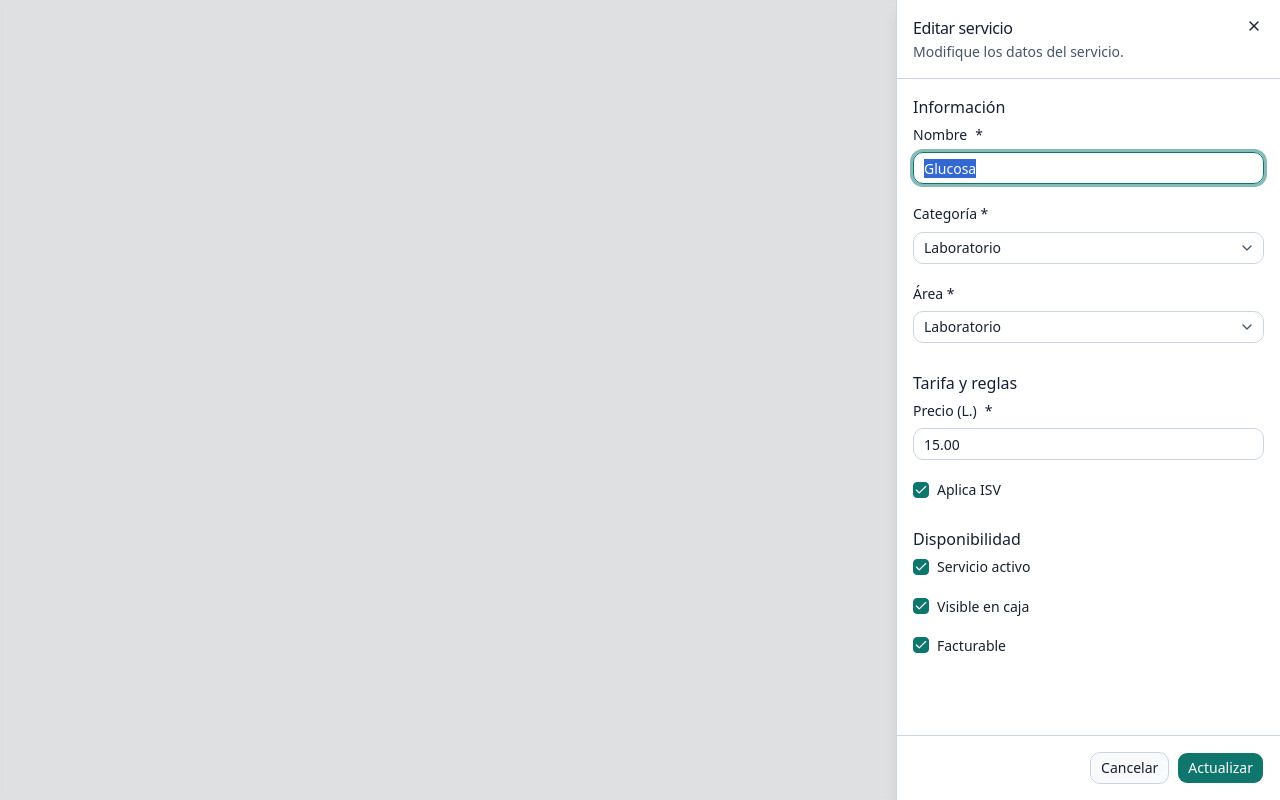
it: ServiceDrawer › blocks short price change reasons before saving
The image size is (1280, 800).
Replace the text in the field labelled "Precio (L.) *" with "20.00": (1088, 444) [913,428,1264,460]
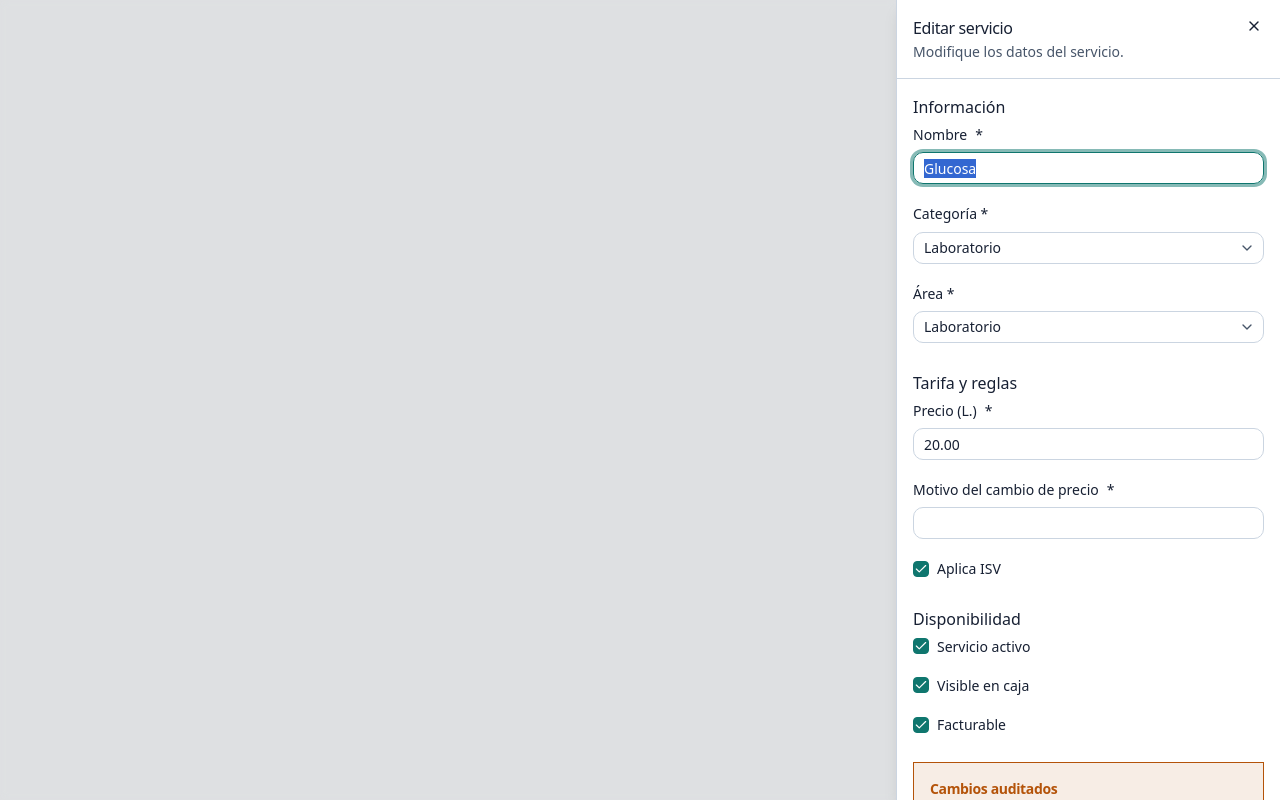
In the field labelled "Motivo del cambio de precio *": (1088, 523) [913,507,1264,539], type "x"
(page scrolled)
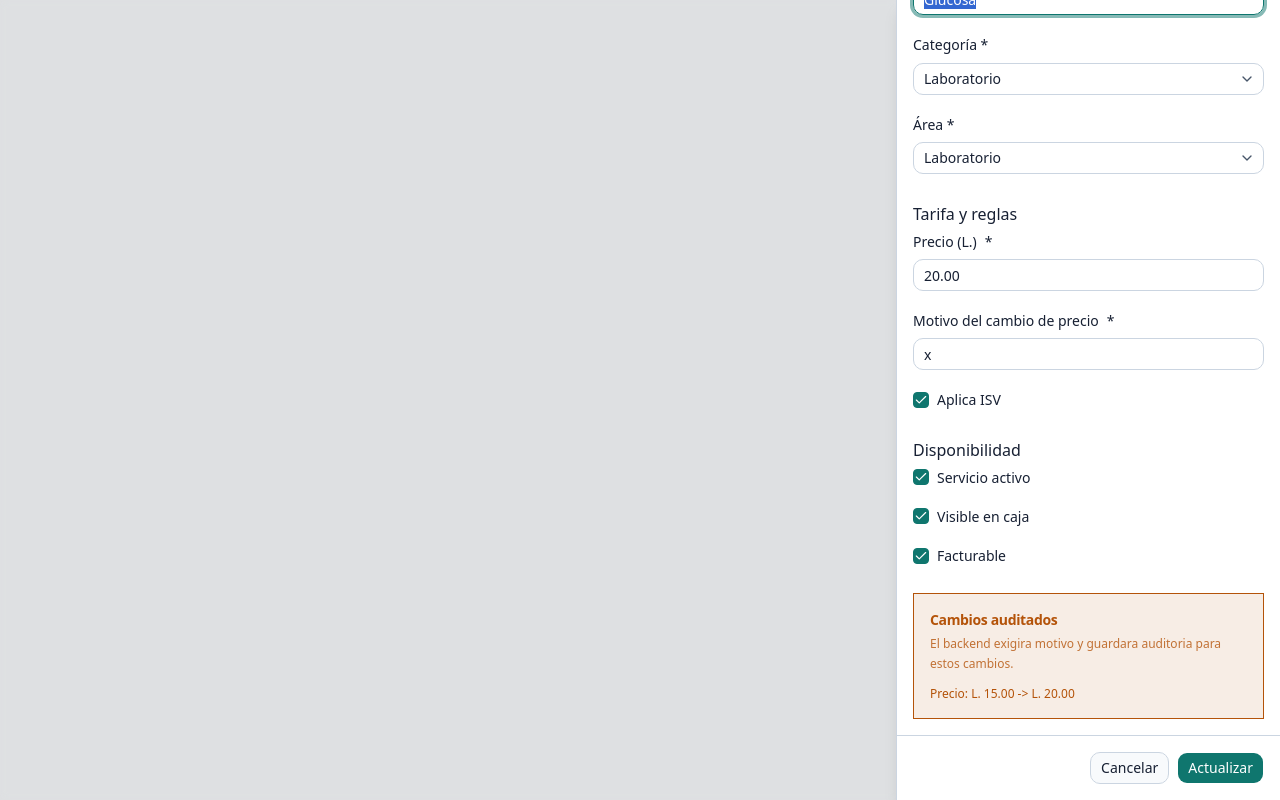
Click the button "Actualizar": (1221, 768) [1177,752,1264,784]
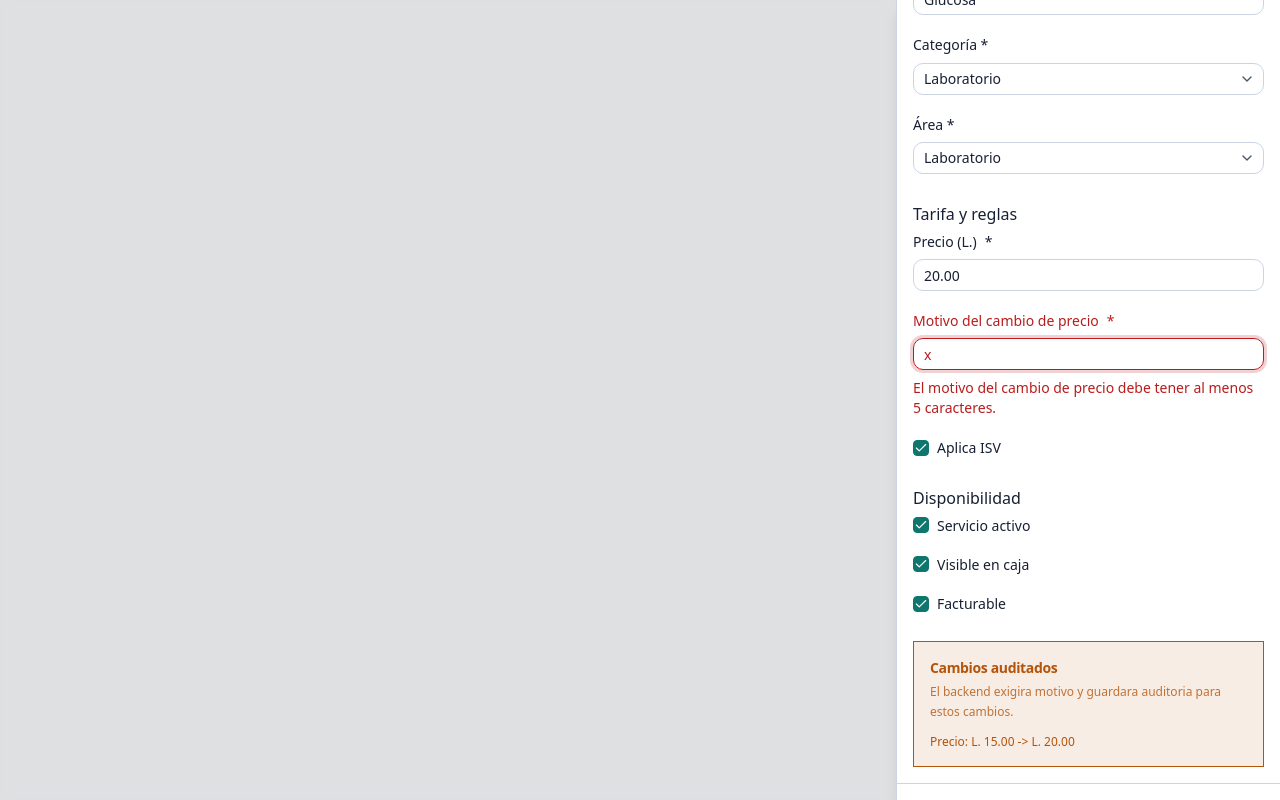
Check: the text "El motivo del cambio de precio debe tener al menos 5 caracteres." is shown, box [913,378,1264,418]
